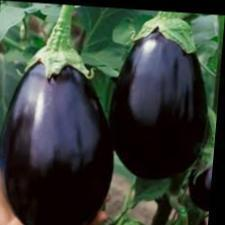eggplant: (0, 9, 127, 224), (109, 6, 211, 174)
